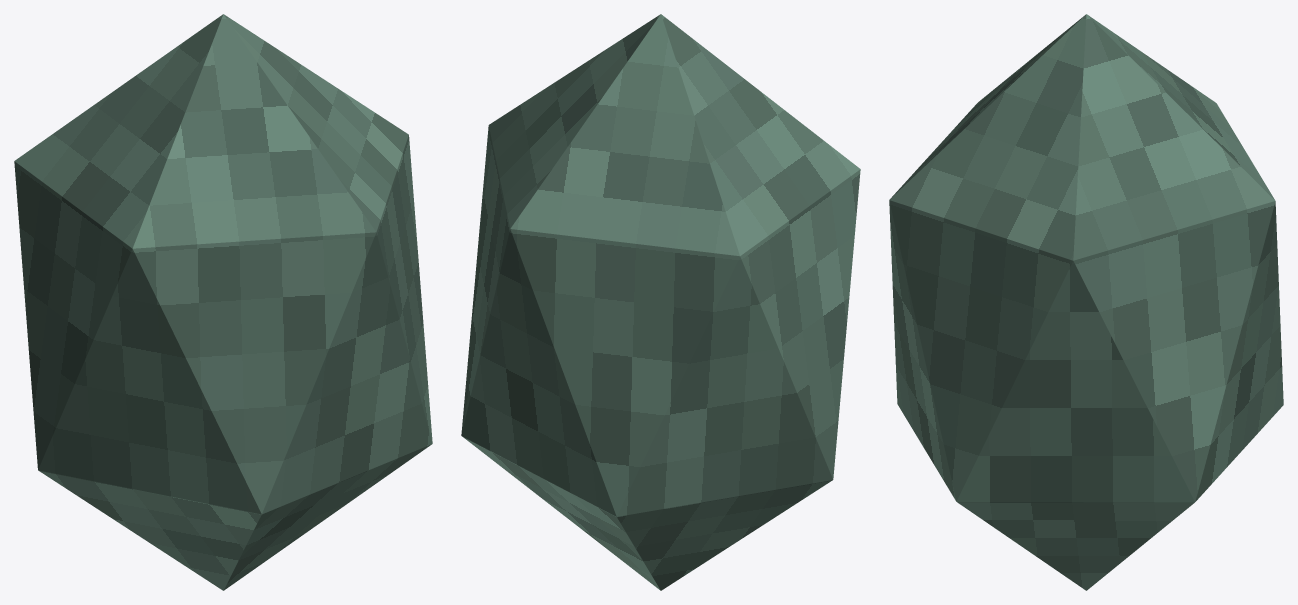
File: rock_40.glb
3 renders of one model, left to right at view 1: azimuth 30°, elevation 25°; view 2: azimuth 150°, elevation 25°; view 3: azimuth 270°, elevation 25°, orthographic.
Visible parts, largest first — view 1: WeatheredStone; view 2: WeatheredStone; view 3: WeatheredStone.
Part boxes in pixels (x1,y1,x2,y2): WeatheredStone: (14, 14, 432, 590); WeatheredStone: (461, 14, 860, 590); WeatheredStone: (889, 14, 1283, 590).
Size of the model in its own units: 1.41 by 2.17 by 1.35.
1 material, 1 textured.
